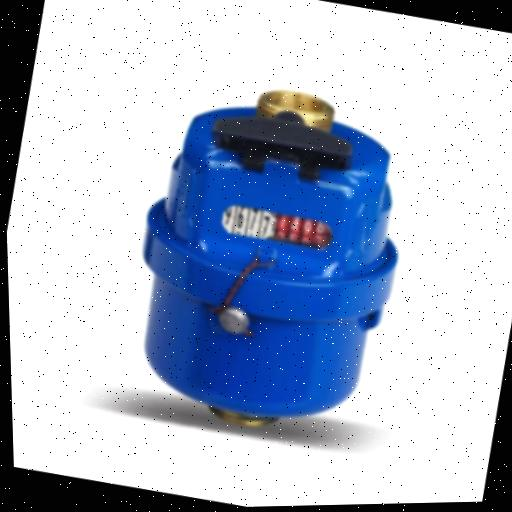1: (273, 214, 290, 242)
4: (287, 217, 304, 244)
6: (312, 221, 335, 250), (233, 207, 250, 236)
7: (258, 212, 277, 239), (245, 208, 262, 237)
9: (220, 203, 237, 233), (299, 218, 315, 245)
border_water_meter_number: (219, 201, 336, 254)
